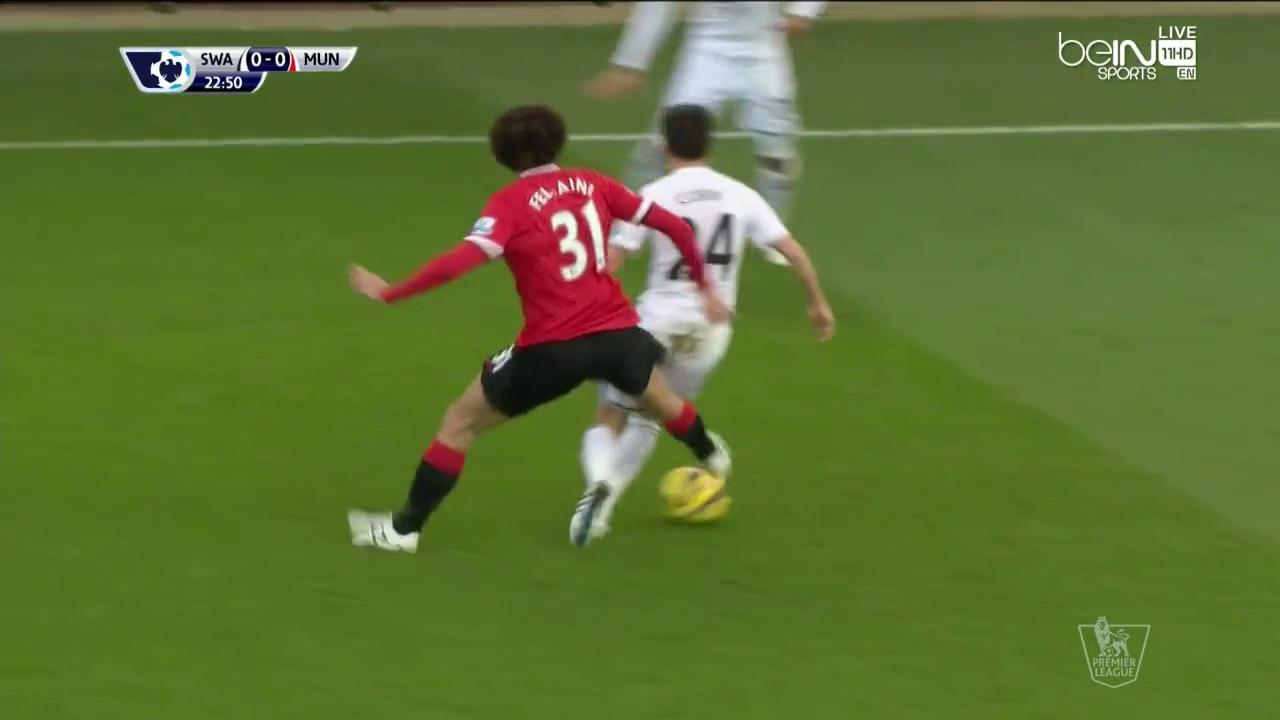football: (658, 466, 731, 525)
